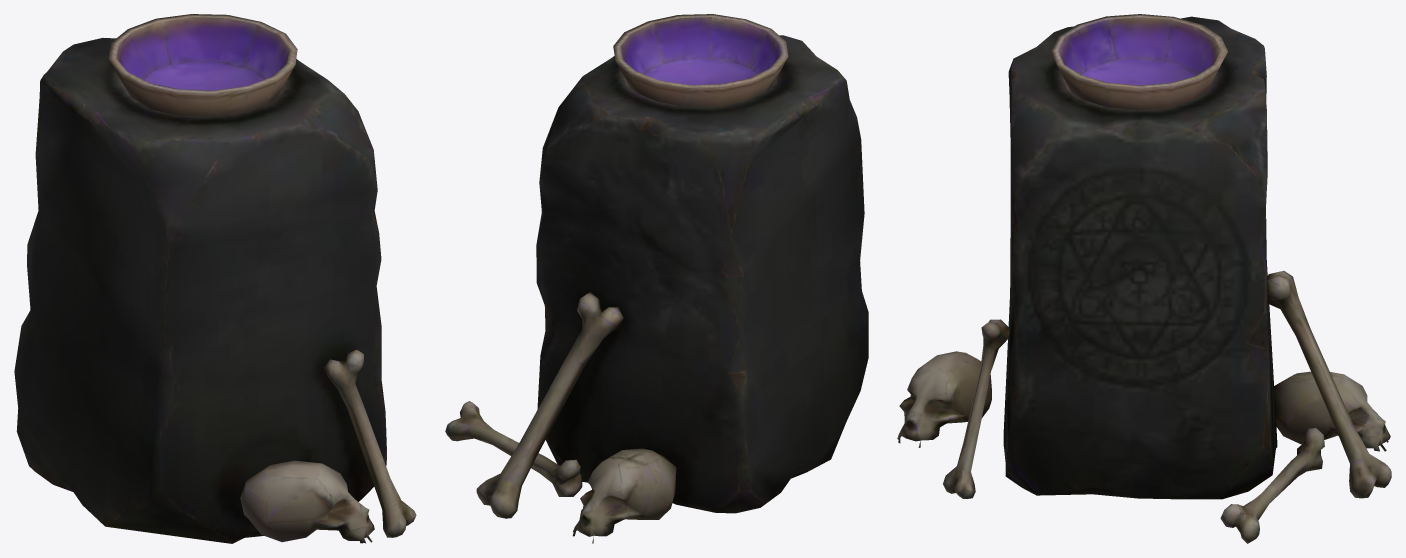
The model's file is alch_totem_stirrer.glb.
3 views of the same model, side by side, from view 1: azimuth 30°, elevation 25°; view 2: azimuth 150°, elevation 25°; view 3: azimuth 270°, elevation 25° (orthographic). The views are drawn at different scales.
Visible parts, largest first — view 1: tripo_node_0b3ab47b-7b21-4167-8162-8a981cc1965b; view 2: tripo_node_0b3ab47b-7b21-4167-8162-8a981cc1965b; view 3: tripo_node_0b3ab47b-7b21-4167-8162-8a981cc1965b.
Part boxes in pixels (<box>): tripo_node_0b3ab47b-7b21-4167-8162-8a981cc1965b: <box>14,14,416,543</box>; tripo_node_0b3ab47b-7b21-4167-8162-8a981cc1965b: <box>445,14,868,543</box>; tripo_node_0b3ab47b-7b21-4167-8162-8a981cc1965b: <box>897,14,1391,543</box>.
Size of the model in its own units: 0.7324 by 0.8925 by 0.998.
1 material, 1 textured.
